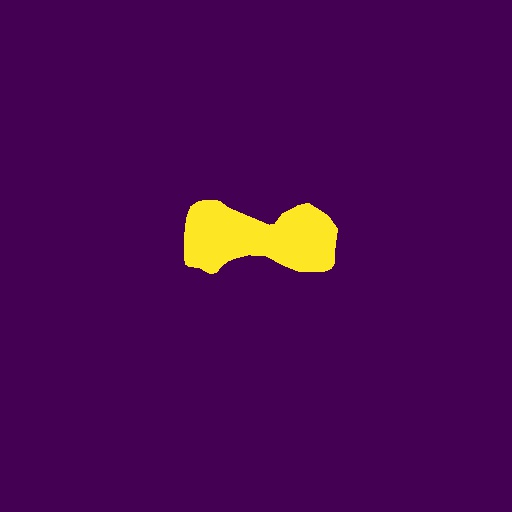Gliomia_tumour: (184, 200, 338, 274)
